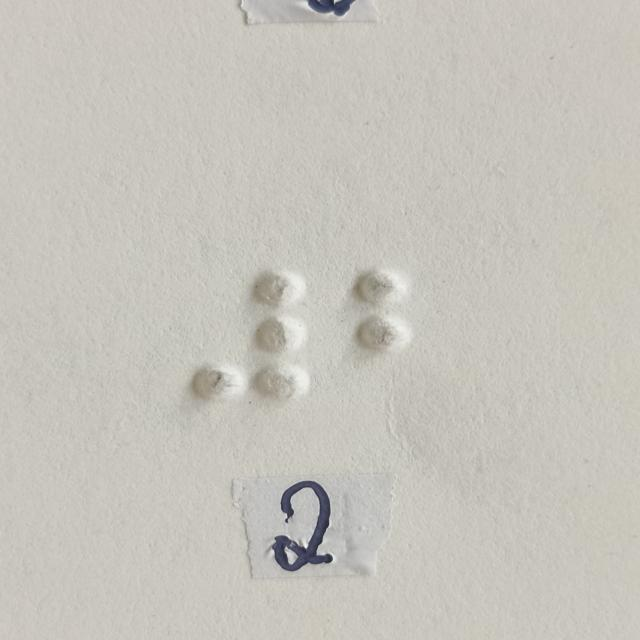2: (357, 273, 474, 408)
number: (193, 269, 309, 405)
